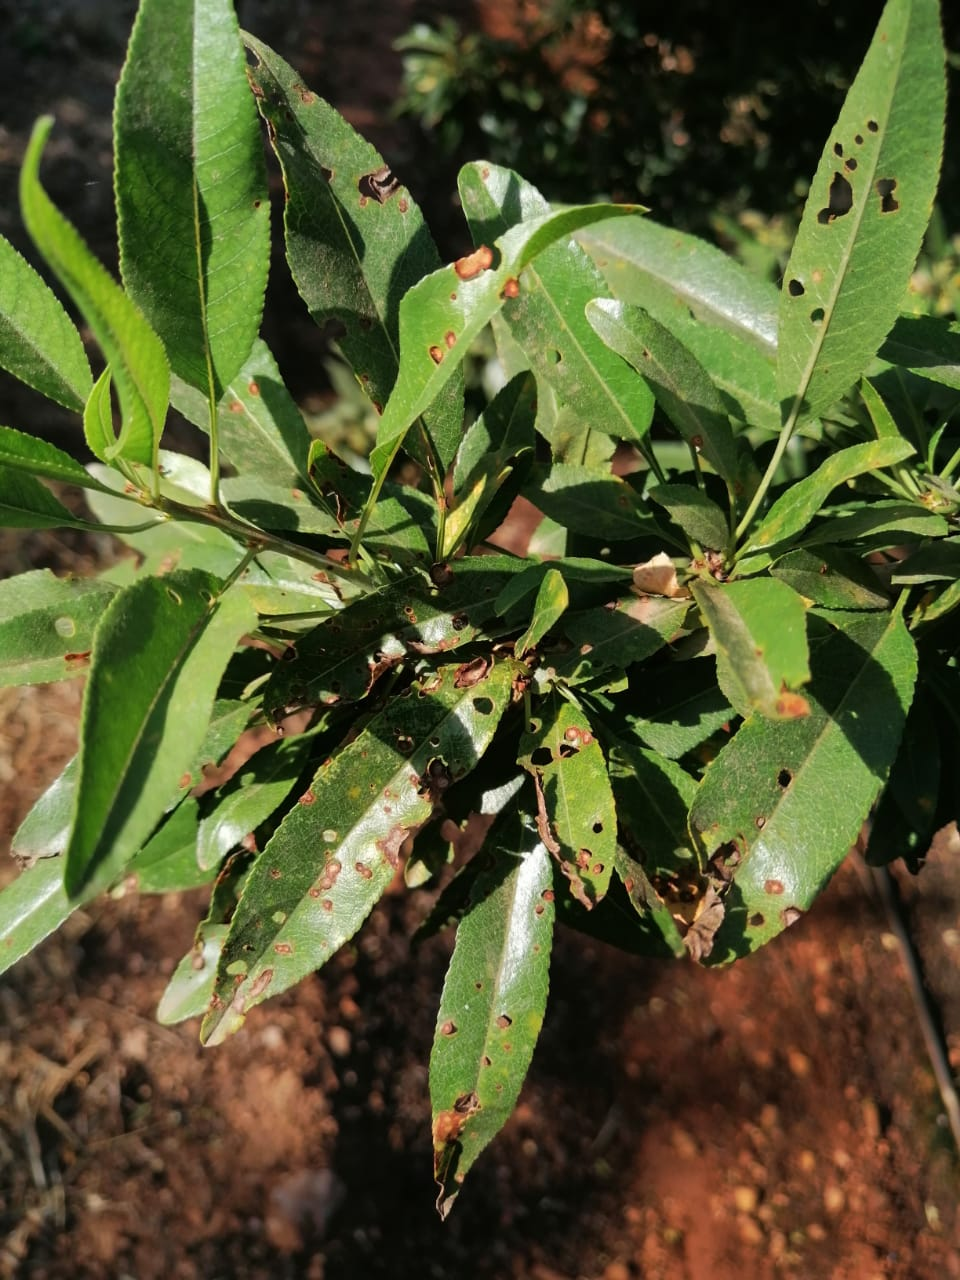coryneum: (196, 661, 521, 1050), (369, 200, 648, 503), (779, 1, 948, 444), (426, 835, 560, 1221)
